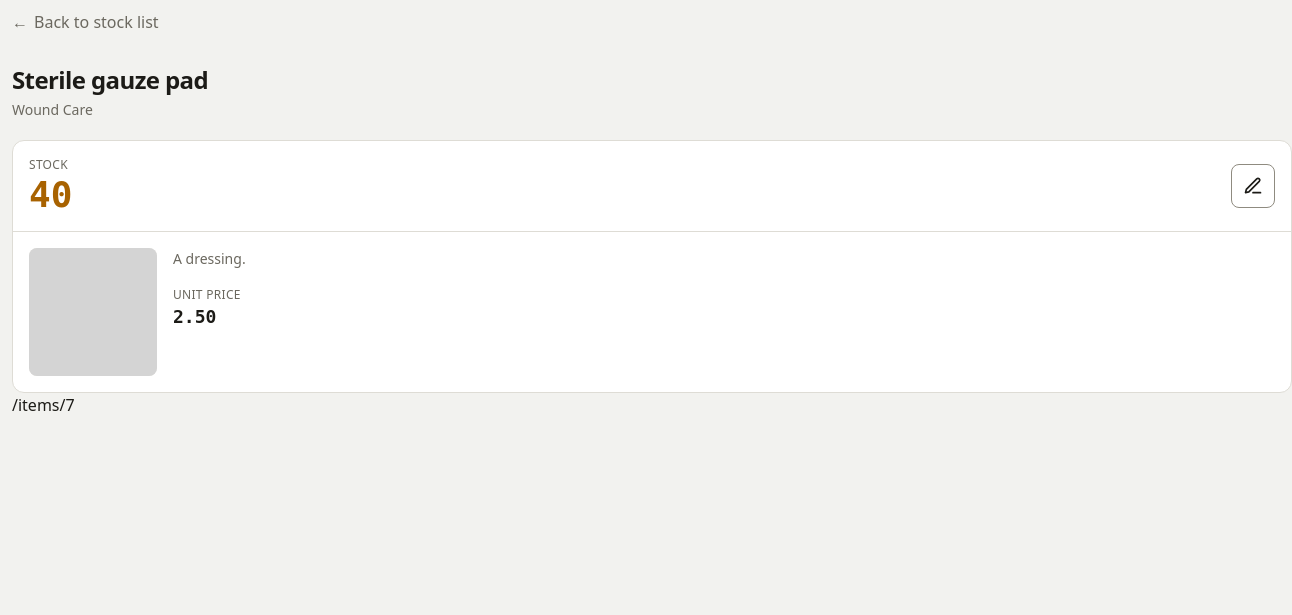
it: StockCorrectionForm › cannot be submitted twice while a save is in flight
Expected: the heading "Sterile gauze pad" is shown, [12,63,208,96]
Click the button named "Correct stock count" at [1253, 186], box [1231,164,1275,208]
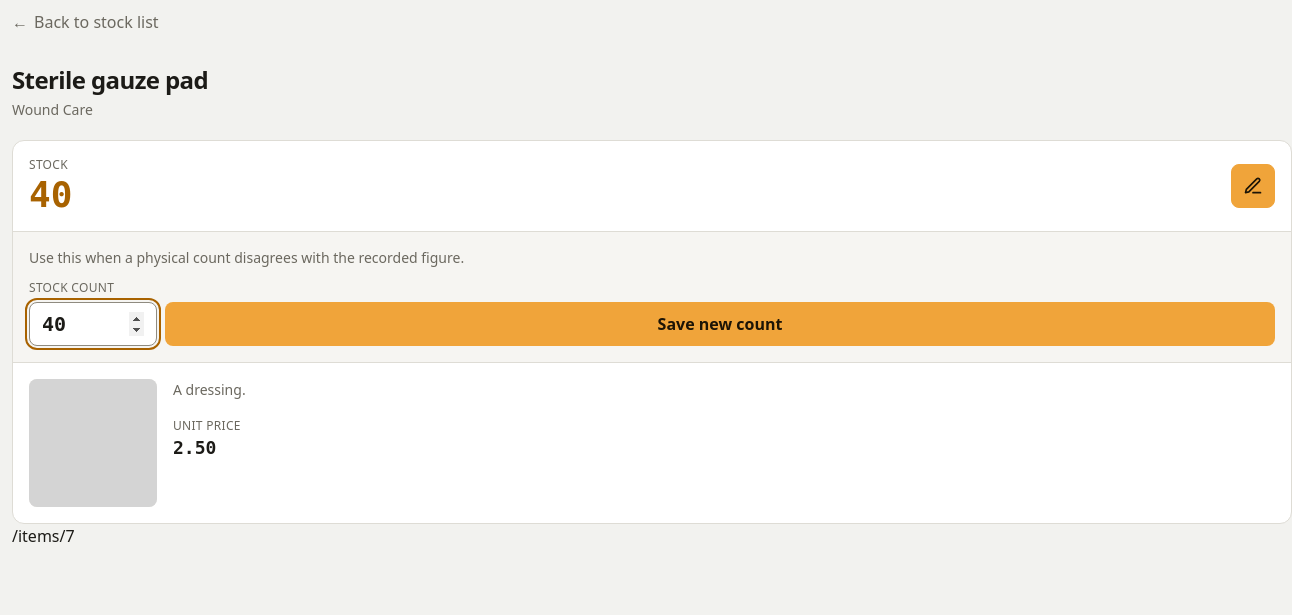
Replace the text in the number field labelled "Stock count" with "12" at [93, 324], box [29,302,157,346]
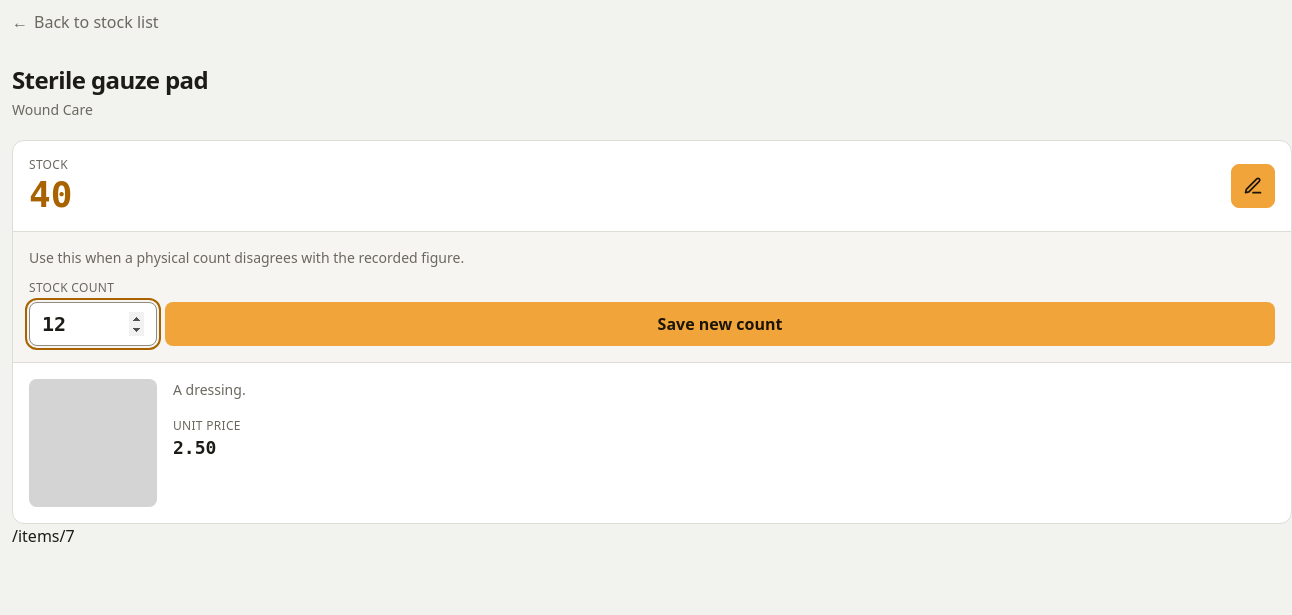
Click the button "Save new count" at [720, 324], box [165,302,1275,346]
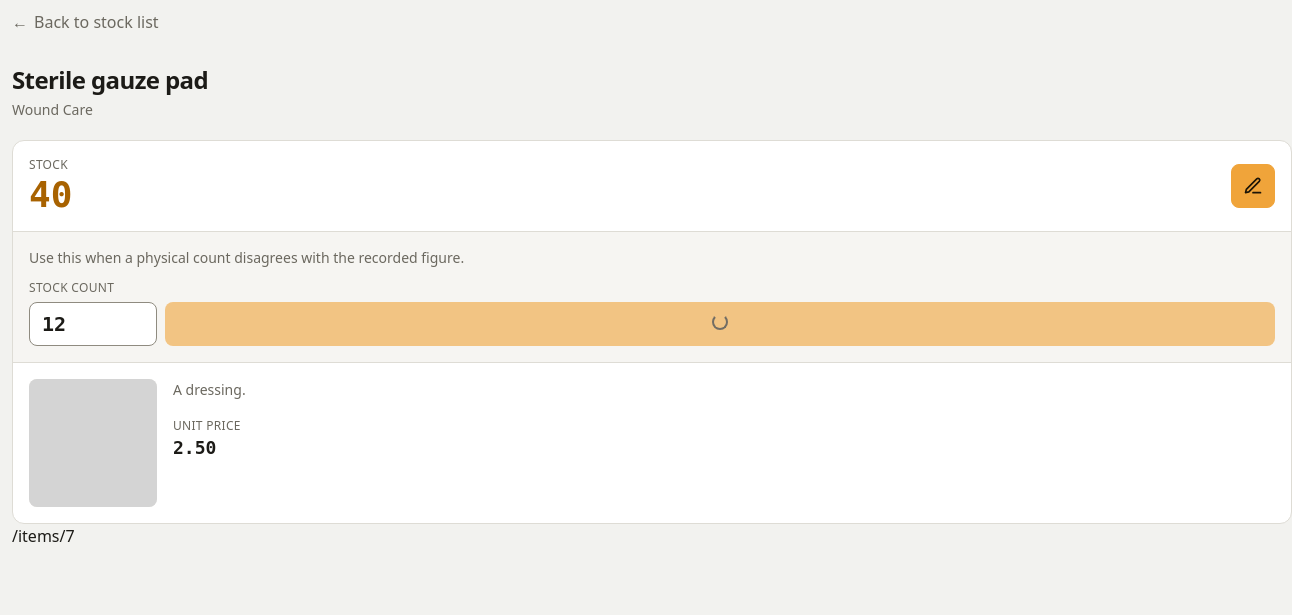
Expected: the button named "Save new count" is disabled
Click the button named "Save new count" at [720, 324], box [165,302,1275,346]
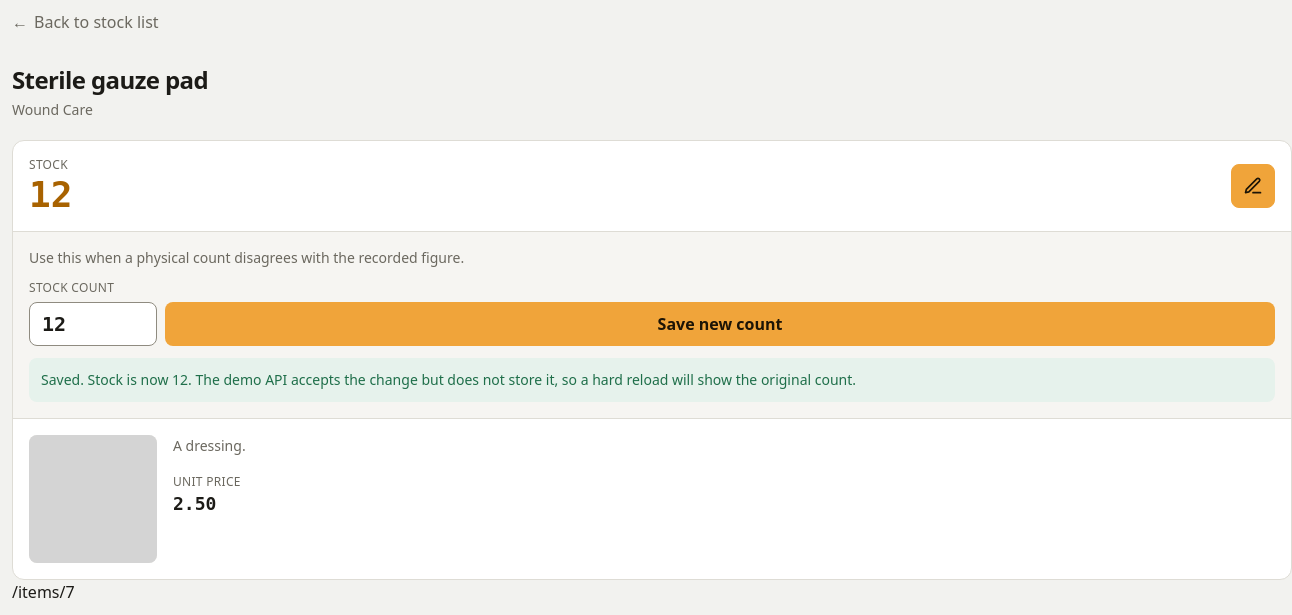
Expected: the message is shown, [29,358,1275,402]
